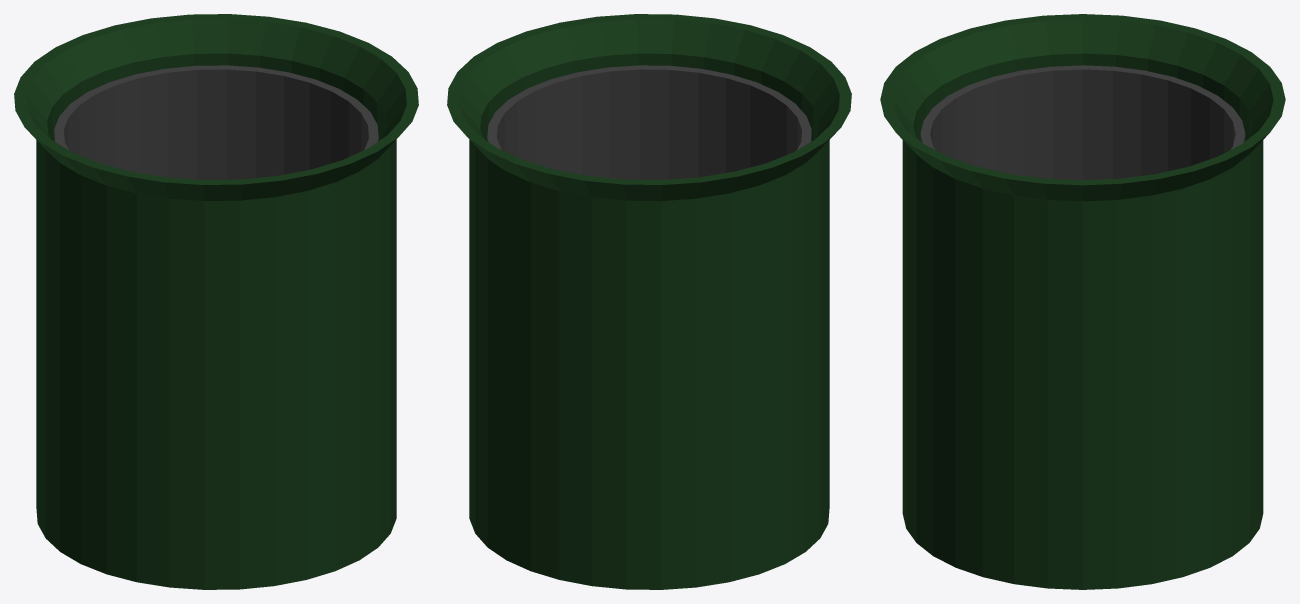
The model's file is TrashCan.fbx.
3 renders of one model, left to right at view 1: azimuth 30°, elevation 25°; view 2: azimuth 150°, elevation 25°; view 3: azimuth 270°, elevation 25°, orthographic.
Visible parts, largest first — view 1: OuterTrash, InnerTrash; view 2: OuterTrash, InnerTrash; view 3: OuterTrash, InnerTrash.
Boxes of the visible parts, x1,y1,x2,y2 form: OuterTrash: [14, 14, 418, 589]; InnerTrash: [54, 65, 378, 179]; OuterTrash: [447, 14, 851, 589]; InnerTrash: [487, 65, 811, 179]; OuterTrash: [880, 14, 1285, 589]; InnerTrash: [920, 65, 1245, 180].
Bounding box in the file's own units: 487 × 549 × 487.
